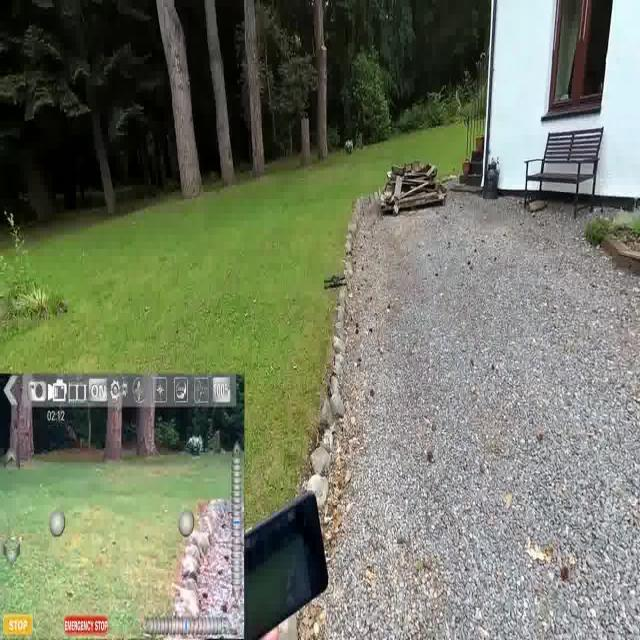drone: (322, 274, 348, 293)
